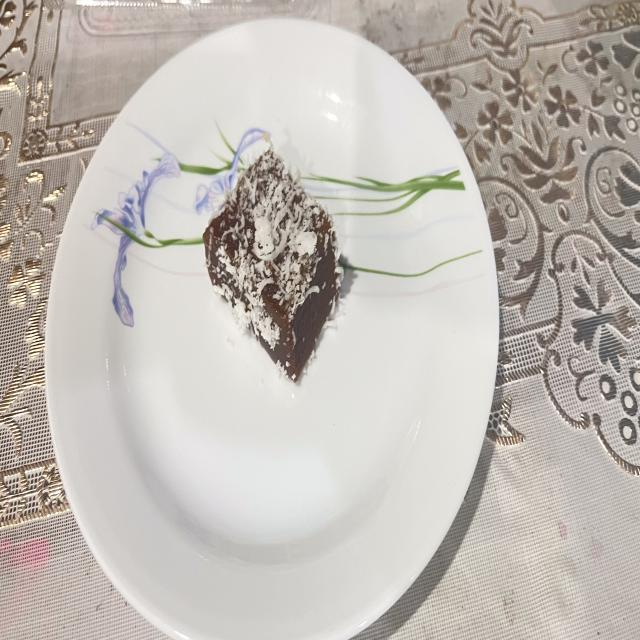kaswi: (204, 147, 342, 380)
